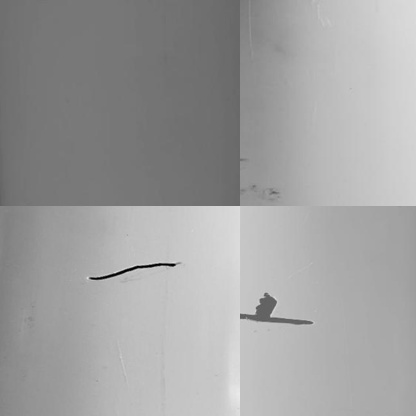fengxi: (82, 261, 181, 279), (240, 314, 313, 328)
kongdong: (254, 293, 275, 314)
